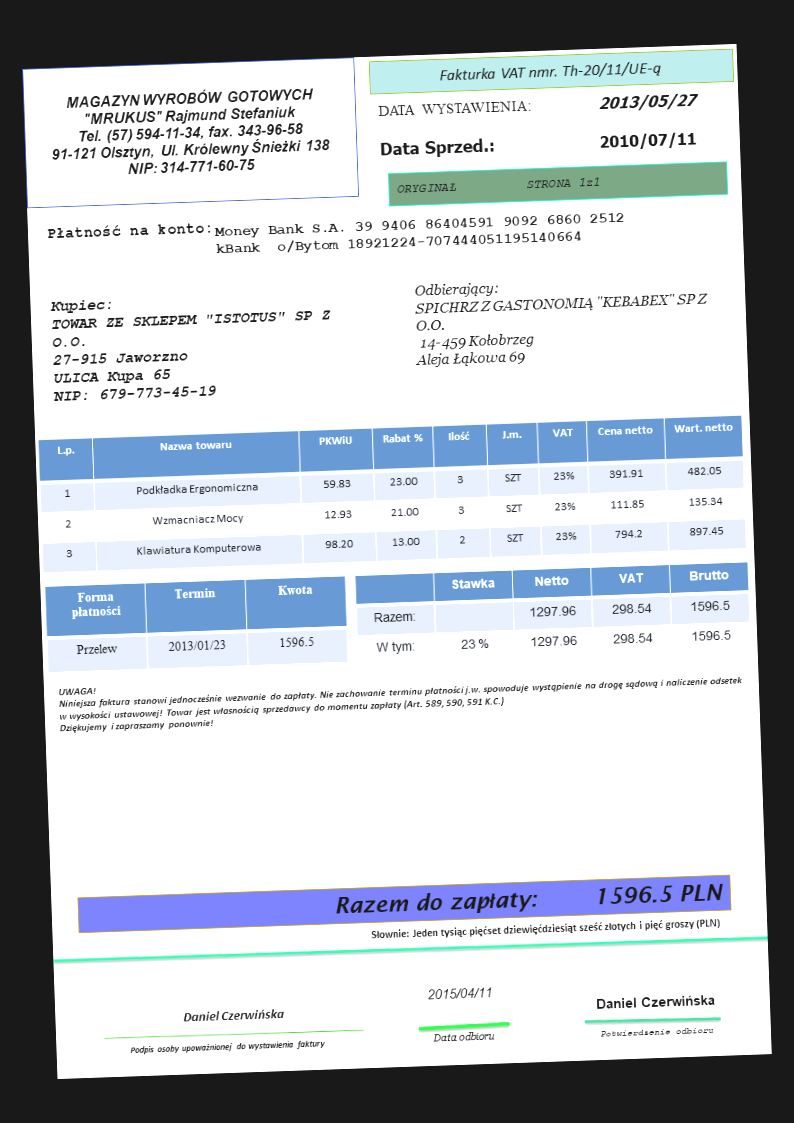Table: (36, 413, 752, 578), (354, 559, 752, 670), (44, 574, 350, 674)
TextBox: (53, 661, 745, 739), (47, 290, 337, 405), (411, 271, 712, 370), (45, 84, 338, 183), (213, 209, 627, 256), (329, 877, 727, 920), (367, 913, 723, 942), (435, 58, 665, 87), (395, 171, 604, 197), (127, 1036, 328, 1059), (375, 94, 534, 122), (42, 218, 215, 242), (377, 134, 497, 160), (592, 991, 717, 1014), (592, 89, 701, 114), (595, 128, 700, 153), (595, 1023, 717, 1040), (179, 1005, 286, 1023), (424, 984, 493, 1001), (431, 1029, 498, 1043)
